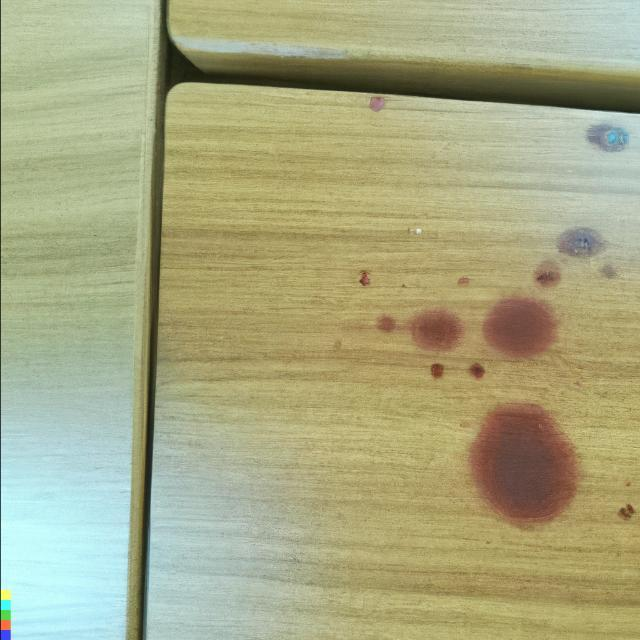blood: (468, 400, 579, 526), (481, 294, 559, 359), (375, 307, 466, 352), (532, 260, 561, 289), (469, 362, 485, 379), (431, 363, 444, 378)
